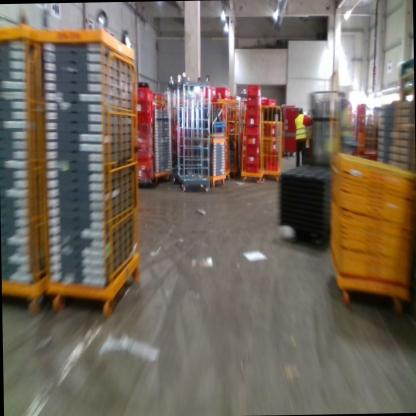pallet_truck: (303, 86, 349, 164)
